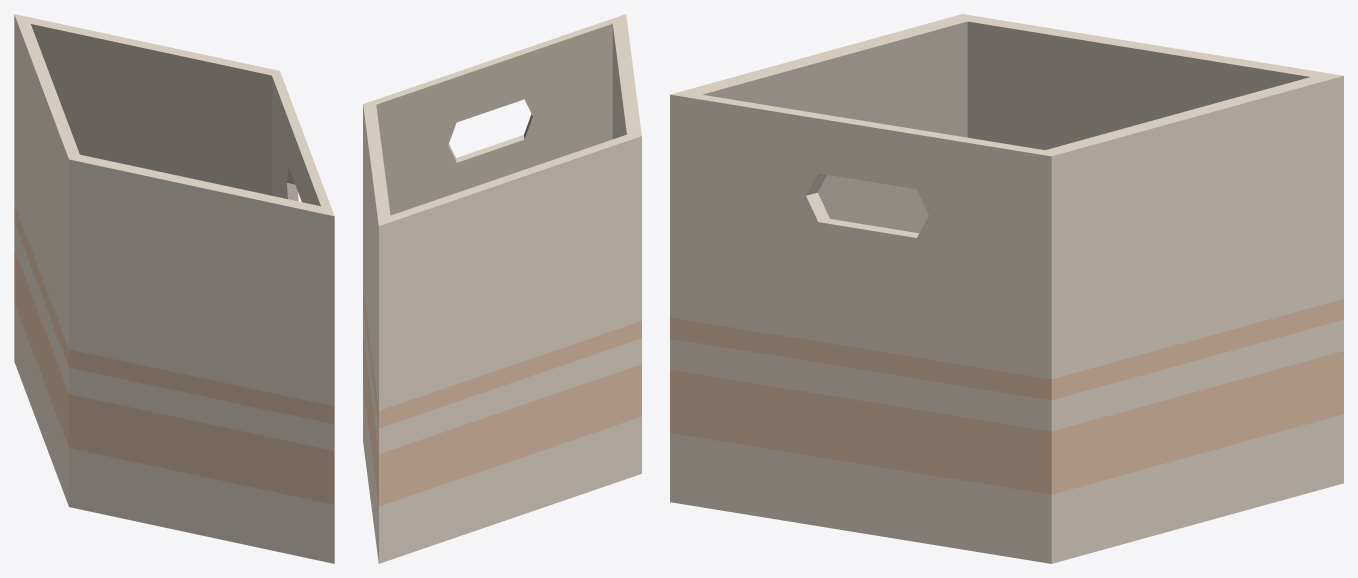
Rendered from CardboardBox.fbx.
The picture shows the model from 3 angles, left to right: view 1: azimuth 30°, elevation 25°; view 2: azimuth 150°, elevation 25°; view 3: azimuth 270°, elevation 25°; orthographic projection. The views are drawn at different scales.
Visible parts, largest first — view 1: CardboardBox; view 2: CardboardBox; view 3: CardboardBox.
Part boxes in pixels (<box>): CardboardBox: <box>14,14,334,563</box>; CardboardBox: <box>363,14,641,563</box>; CardboardBox: <box>670,14,1343,563</box>.
Size of the model in its own units: 0.2173 by 0.29 by 0.4346.
